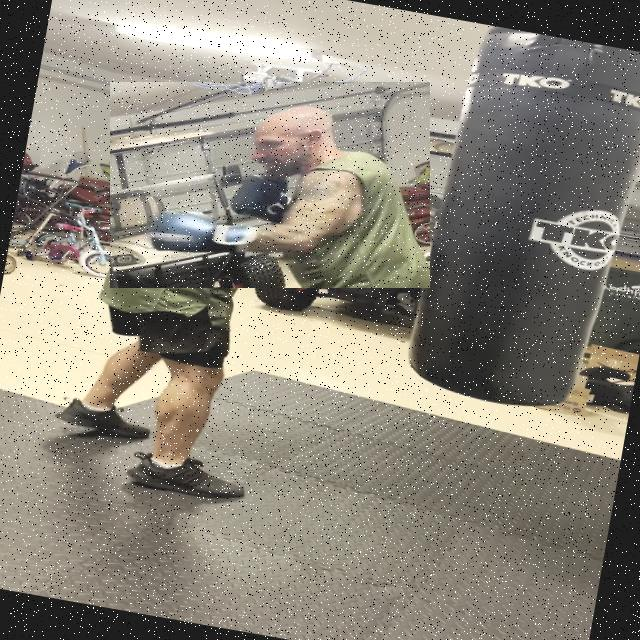punch: (110, 82, 430, 288)
